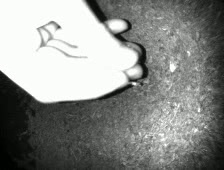corn: (168, 58, 178, 73)
